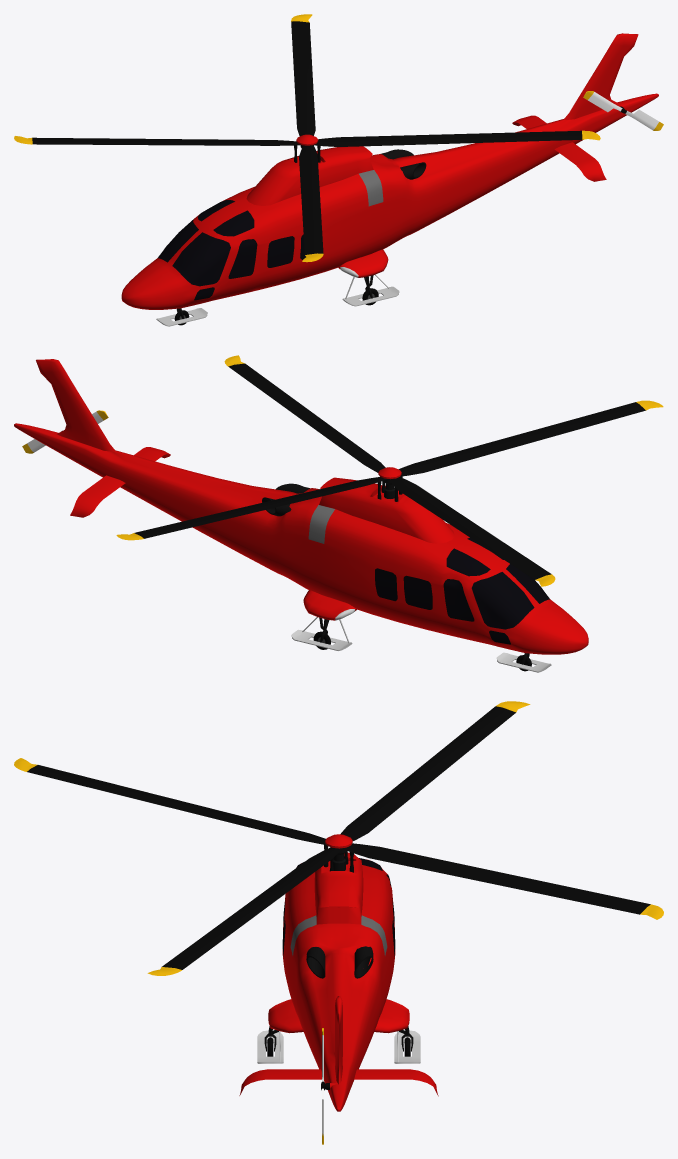
Rendered from helicopter.obj.
3 views of the same model, one above another, from view 1: azimuth 30°, elevation 25°; view 2: azimuth 150°, elevation 25°; view 3: azimuth 270°, elevation 25° (orthographic). The views are drawn at different scales.
Visible parts, largest first — view 1: Cube, Cylinder.003_Cylinder.004, Cube.001_Cube.002, Cube.004_Cube.005, Cylinder.002, Cylinder, Cube.007_Cube.008; view 2: Cube, Cylinder.003_Cylinder.004, Cube.001_Cube.002, Cube.004_Cube.005, Cube.007_Cube.008, Cube.006_Cube.007, Cylinder; view 3: Cube, Cylinder.003_Cylinder.004, Cube.004_Cube.005, Cube.001_Cube.002, Cube.007_Cube.008, Cylinder.
Boxes of the visible parts, <box> form: Cube: <box>121,33,658,309</box>; Cylinder.003_Cylinder.004: <box>14,14,600,262</box>; Cube.001_Cube.002: <box>512,115,606,181</box>; Cube.004_Cube.005: <box>338,249,388,277</box>; Cylinder.002: <box>583,91,663,130</box>; Cylinder: <box>381,149,426,179</box>; Cube.007_Cube.008: <box>342,286,399,306</box>; Cube: <box>14,359,588,654</box>; Cylinder.003_Cylinder.004: <box>116,355,663,586</box>; Cube.001_Cube.002: <box>70,447,170,517</box>; Cube.004_Cube.005: <box>303,590,357,620</box>; Cube.007_Cube.008: <box>291,629,352,650</box>; Cube.006_Cube.007: <box>496,652,551,672</box>; Cylinder: <box>262,483,309,516</box>; Cube: <box>282,852,395,1111</box>; Cylinder.003_Cylinder.004: <box>14,701,663,975</box>; Cube.004_Cube.005: <box>268,999,409,1033</box>; Cube.001_Cube.002: <box>239,1069,438,1096</box>; Cube.007_Cube.008: <box>257,1030,420,1063</box>; Cylinder: <box>306,946,373,978</box>.
Bounding box in the file's own units: 9.99 × 3.06 × 7.73.
